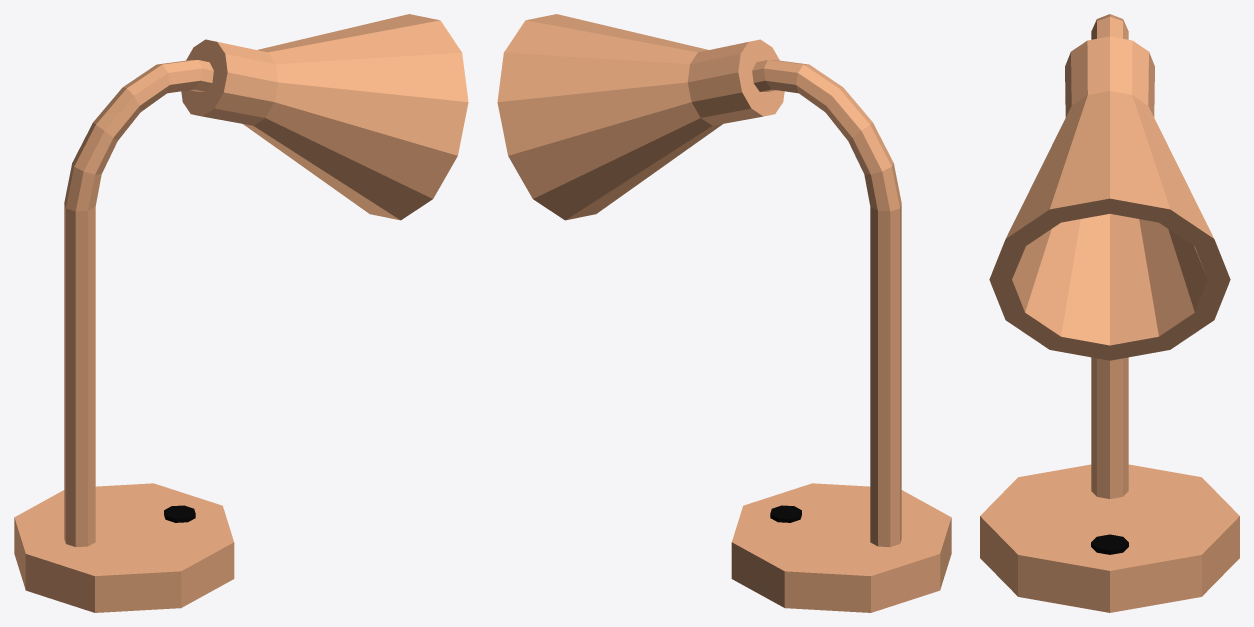
File: Lamp_Orange.fbx
3 renders of one model, left to right at view 1: azimuth 30°, elevation 25°; view 2: azimuth 150°, elevation 25°; view 3: azimuth 270°, elevation 25°, orthographic. The views are drawn at different scales.
Parts seen in each view (by area): view 1: Lamp.004; view 2: Lamp.004; view 3: Lamp.004.
Part boxes in pixels (<box>): Lamp.004: <box>14,14,468,612</box>; Lamp.004: <box>497,14,951,612</box>; Lamp.004: <box>980,14,1239,612</box>.
Bounding box in the file's own units: 29.47 × 34.09 × 14.
